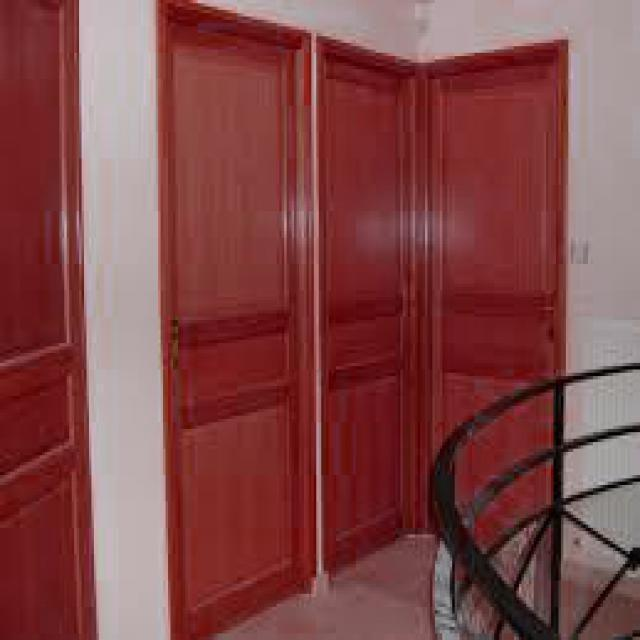door: (157, 1, 316, 636), (316, 30, 416, 577)
